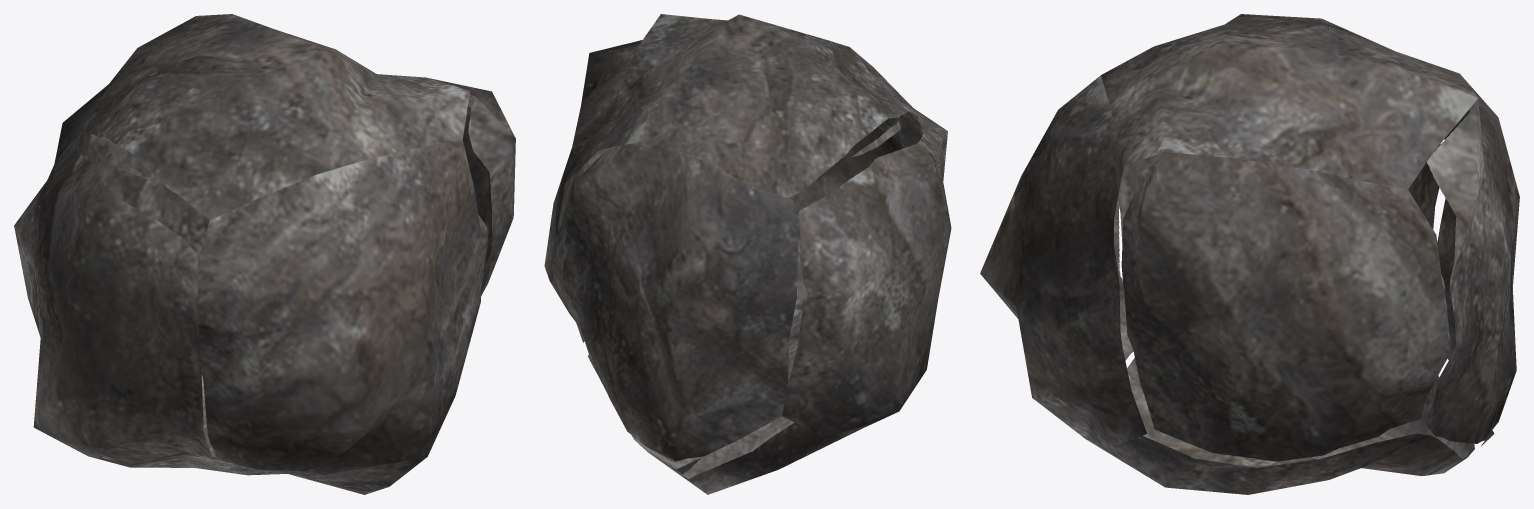
The model's file is Rock9.FBX.
The picture shows the model from 3 angles, left to right: view 1: azimuth 30°, elevation 25°; view 2: azimuth 150°, elevation 25°; view 3: azimuth 270°, elevation 25°; orthographic projection. The views are drawn at different scales.
Visible parts, largest first — view 1: rockLP001; view 2: rockLP001; view 3: rockLP001.
Part boxes in pixels (bbox=[...]): rockLP001: bbox=[14, 14, 515, 494]; rockLP001: bbox=[544, 14, 951, 494]; rockLP001: bbox=[980, 14, 1519, 494].
Size of the model in its own units: 2.35 by 2.43 by 2.55.
1 material, 1 textured.
